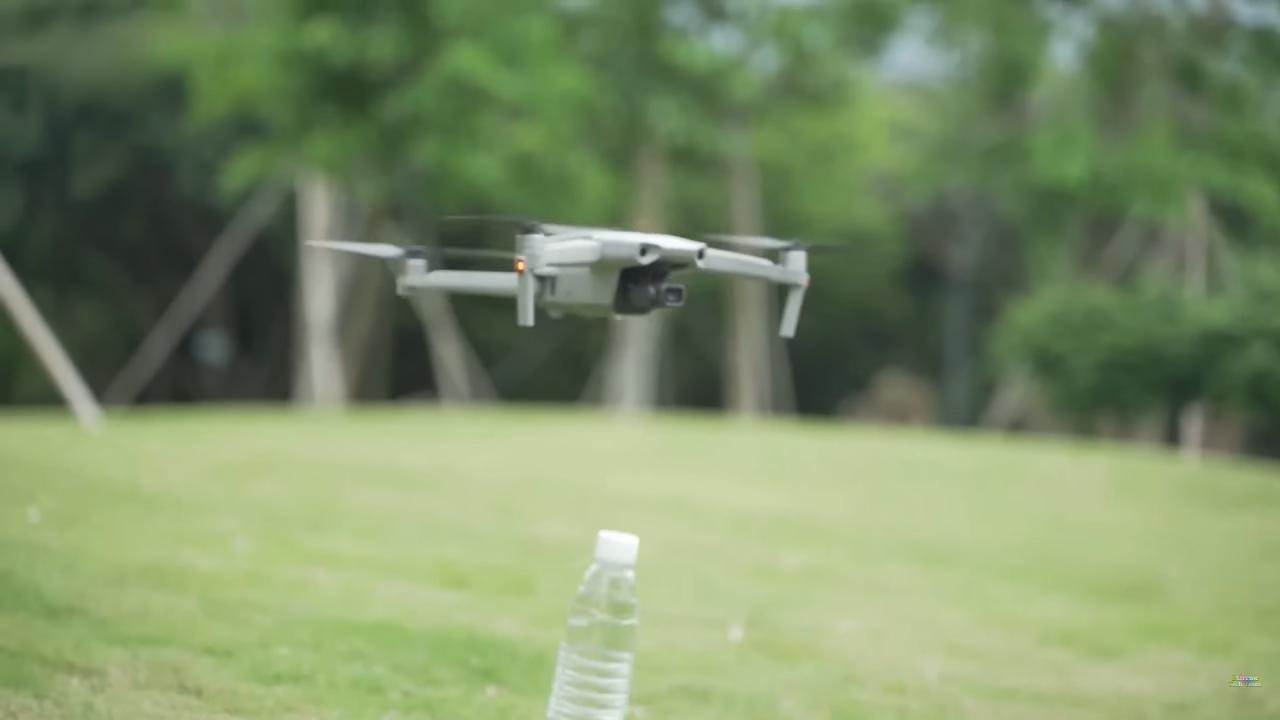Drone: (286, 185, 875, 362)
